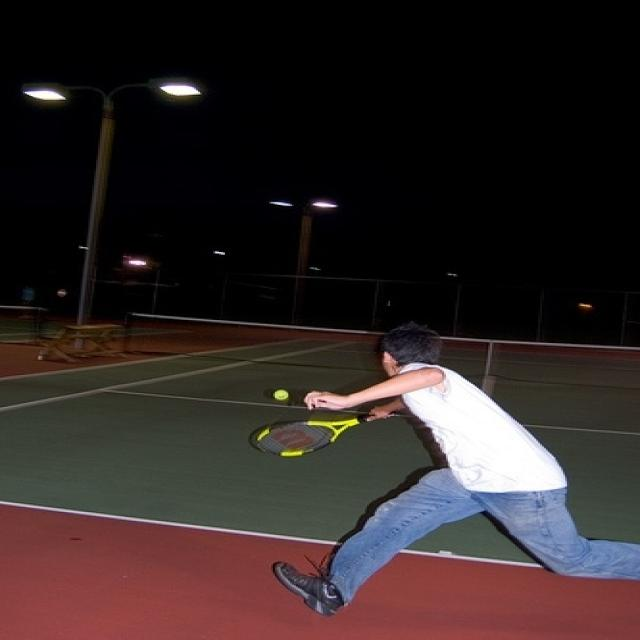ball: (271, 389, 288, 401)
